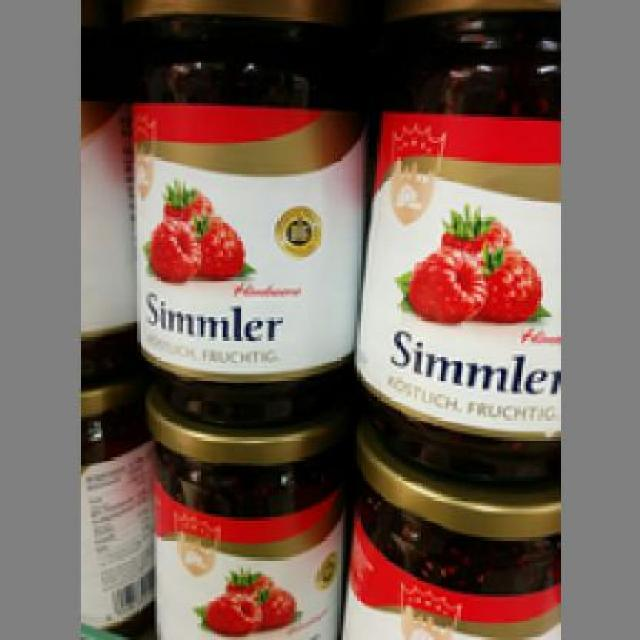Jam: (352, 0, 558, 489), (128, 0, 358, 429), (140, 392, 349, 638), (334, 420, 557, 637)
